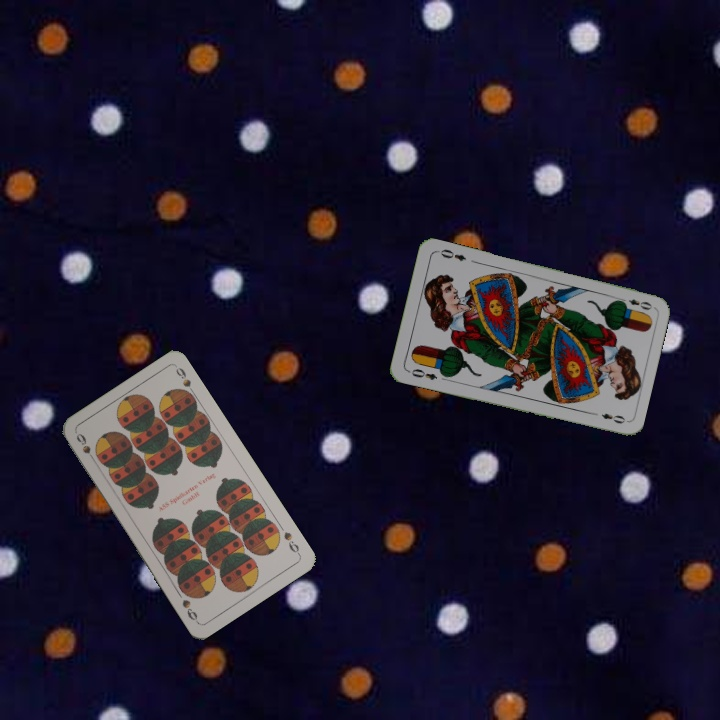EO: (615, 294, 655, 312), (404, 365, 440, 383)
S9: (72, 429, 99, 466), (280, 527, 303, 558)
